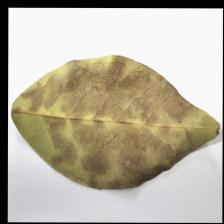black spot: (36, 65, 176, 171)
